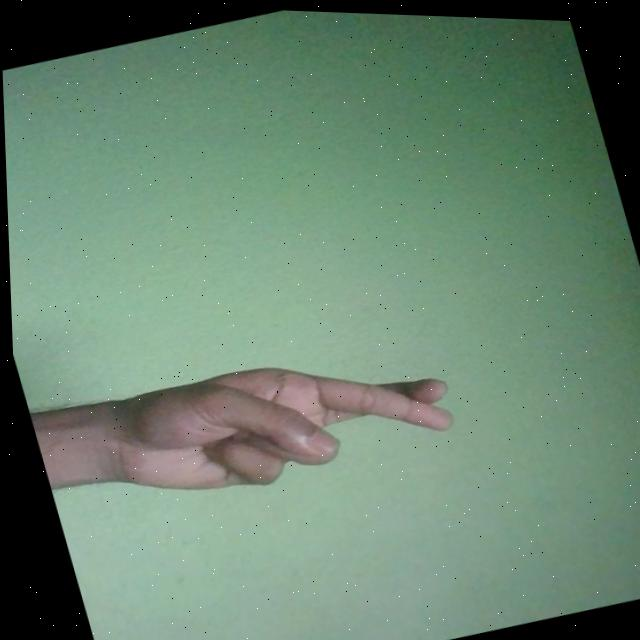Good Luck: (83, 314, 462, 526)
